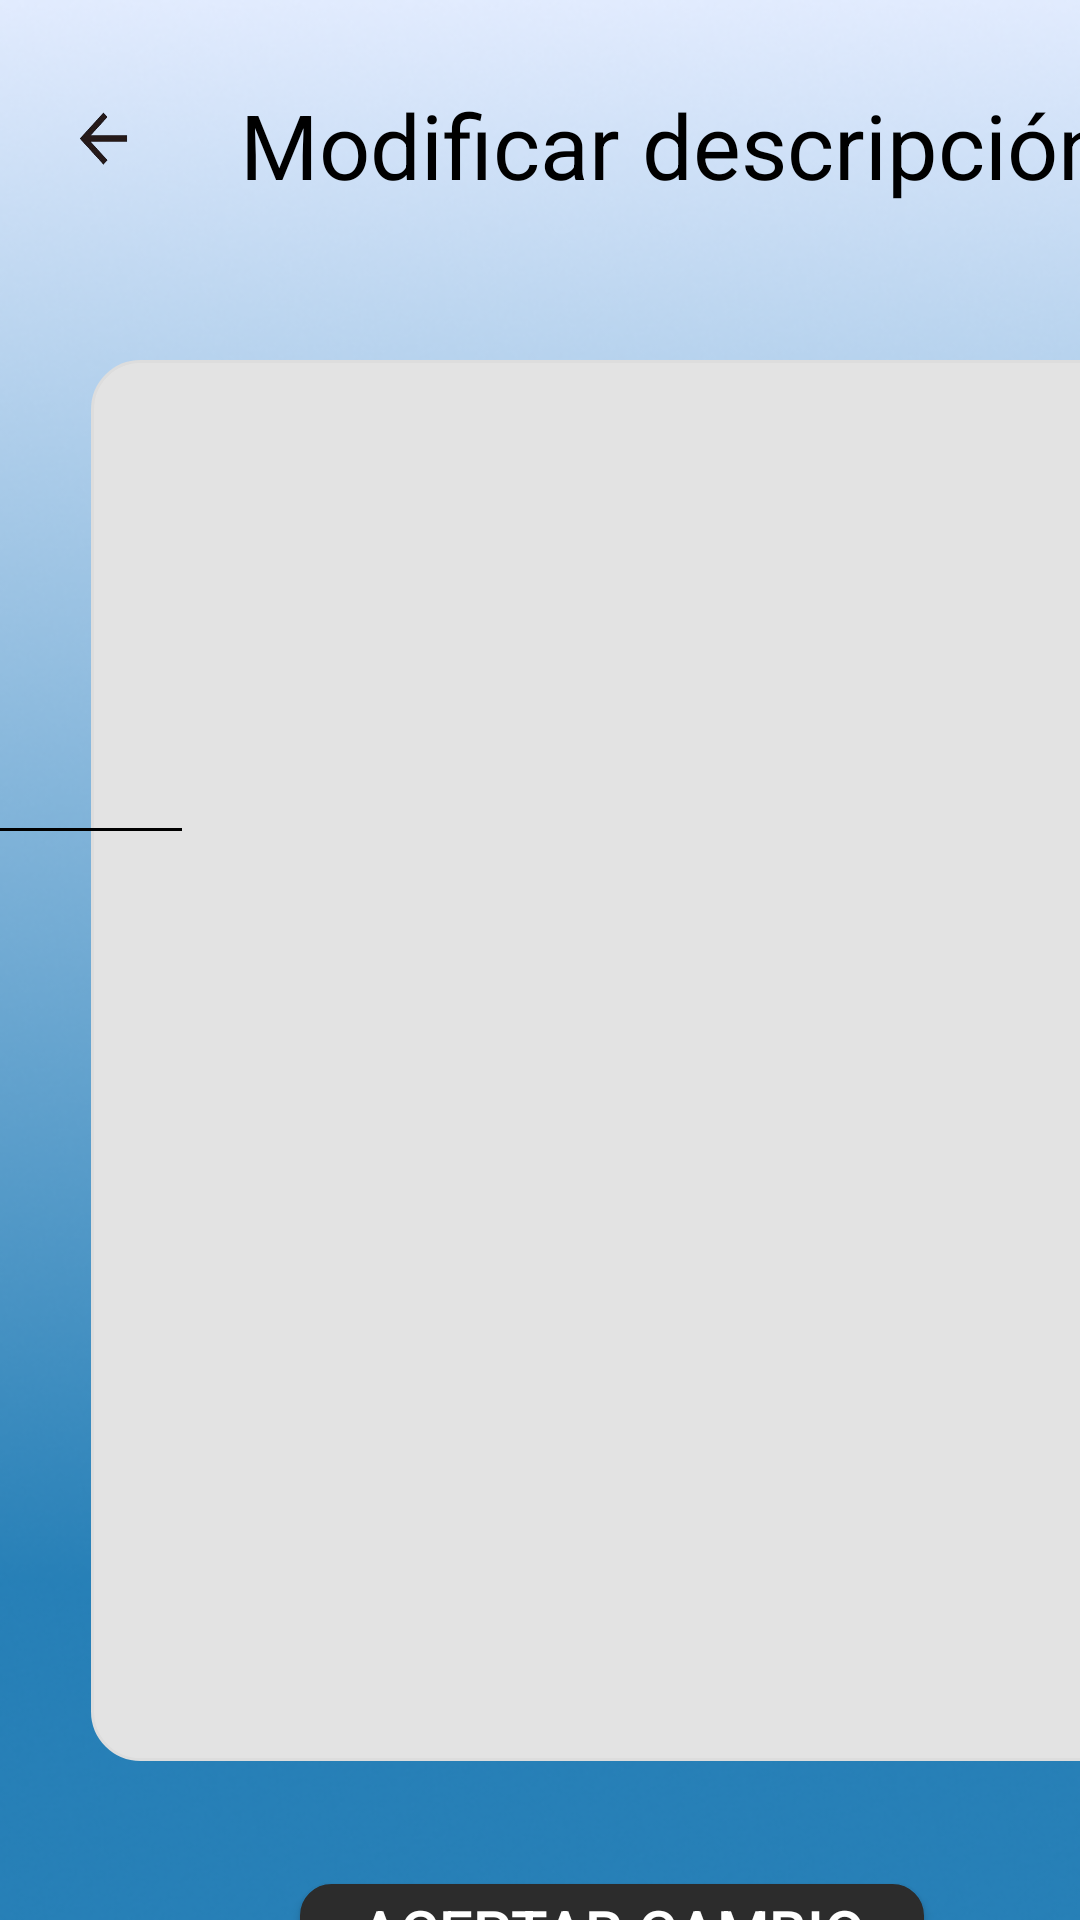

Named icons in this screenshot (1080 x 1920) and their bounding boxes, (x1, y1, x2, y2):
flecha atras negra: (80, 112, 127, 165)
